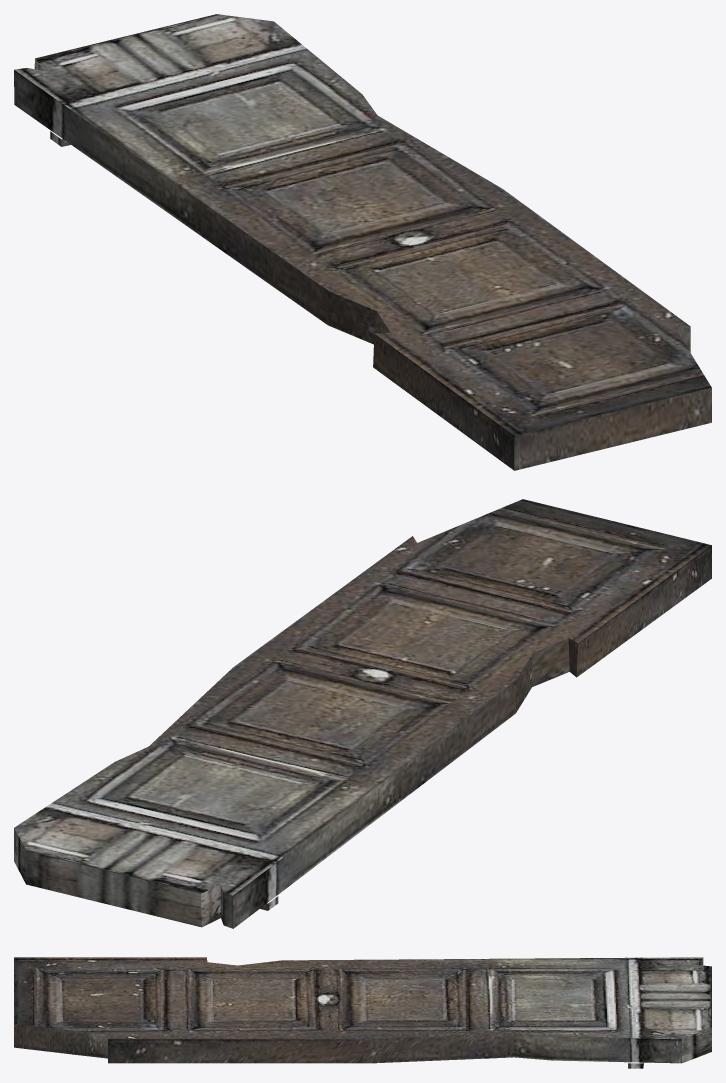
Rendered from prop_door_wood_d.glb.
3 views of the same model, one above another, from view 1: azimuth 30°, elevation 25°; view 2: azimuth 150°, elevation 25°; view 3: azimuth 270°, elevation 25° (orthographic). The views are drawn at different scales.
Size of the model in its own units: 22 by 4.8 by 79.
1 material, 1 textured.
